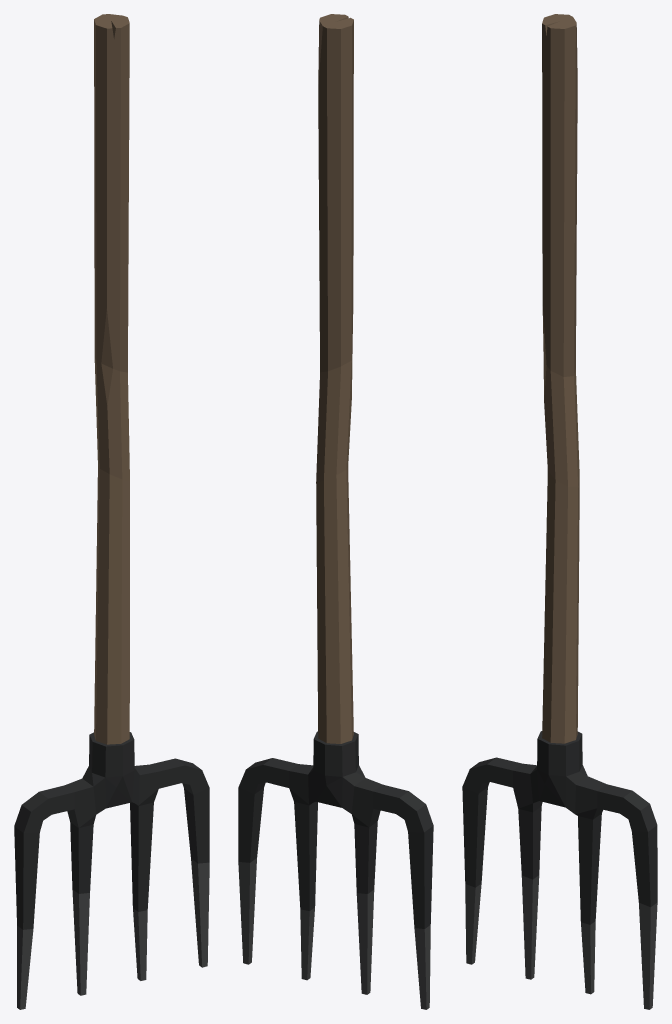
File: SM_Props_Farm_Tool_Fork.fbx
3 renders of one model, left to right at view 1: azimuth 30°, elevation 25°; view 2: azimuth 150°, elevation 25°; view 3: azimuth 330°, elevation 25°, orthographic.
Parts seen in each view (by area): view 1: SM_Props_Farm_Tool_Fork; view 2: SM_Props_Farm_Tool_Fork; view 3: SM_Props_Farm_Tool_Fork.
Boxes of the visible parts, x1,y1,x2,y2 form: SM_Props_Farm_Tool_Fork: (14, 14, 209, 1009); SM_Props_Farm_Tool_Fork: (238, 14, 433, 1009); SM_Props_Farm_Tool_Fork: (462, 14, 657, 1009).
Size of the model in its own units: 22.63 by 111 by 4.65.
